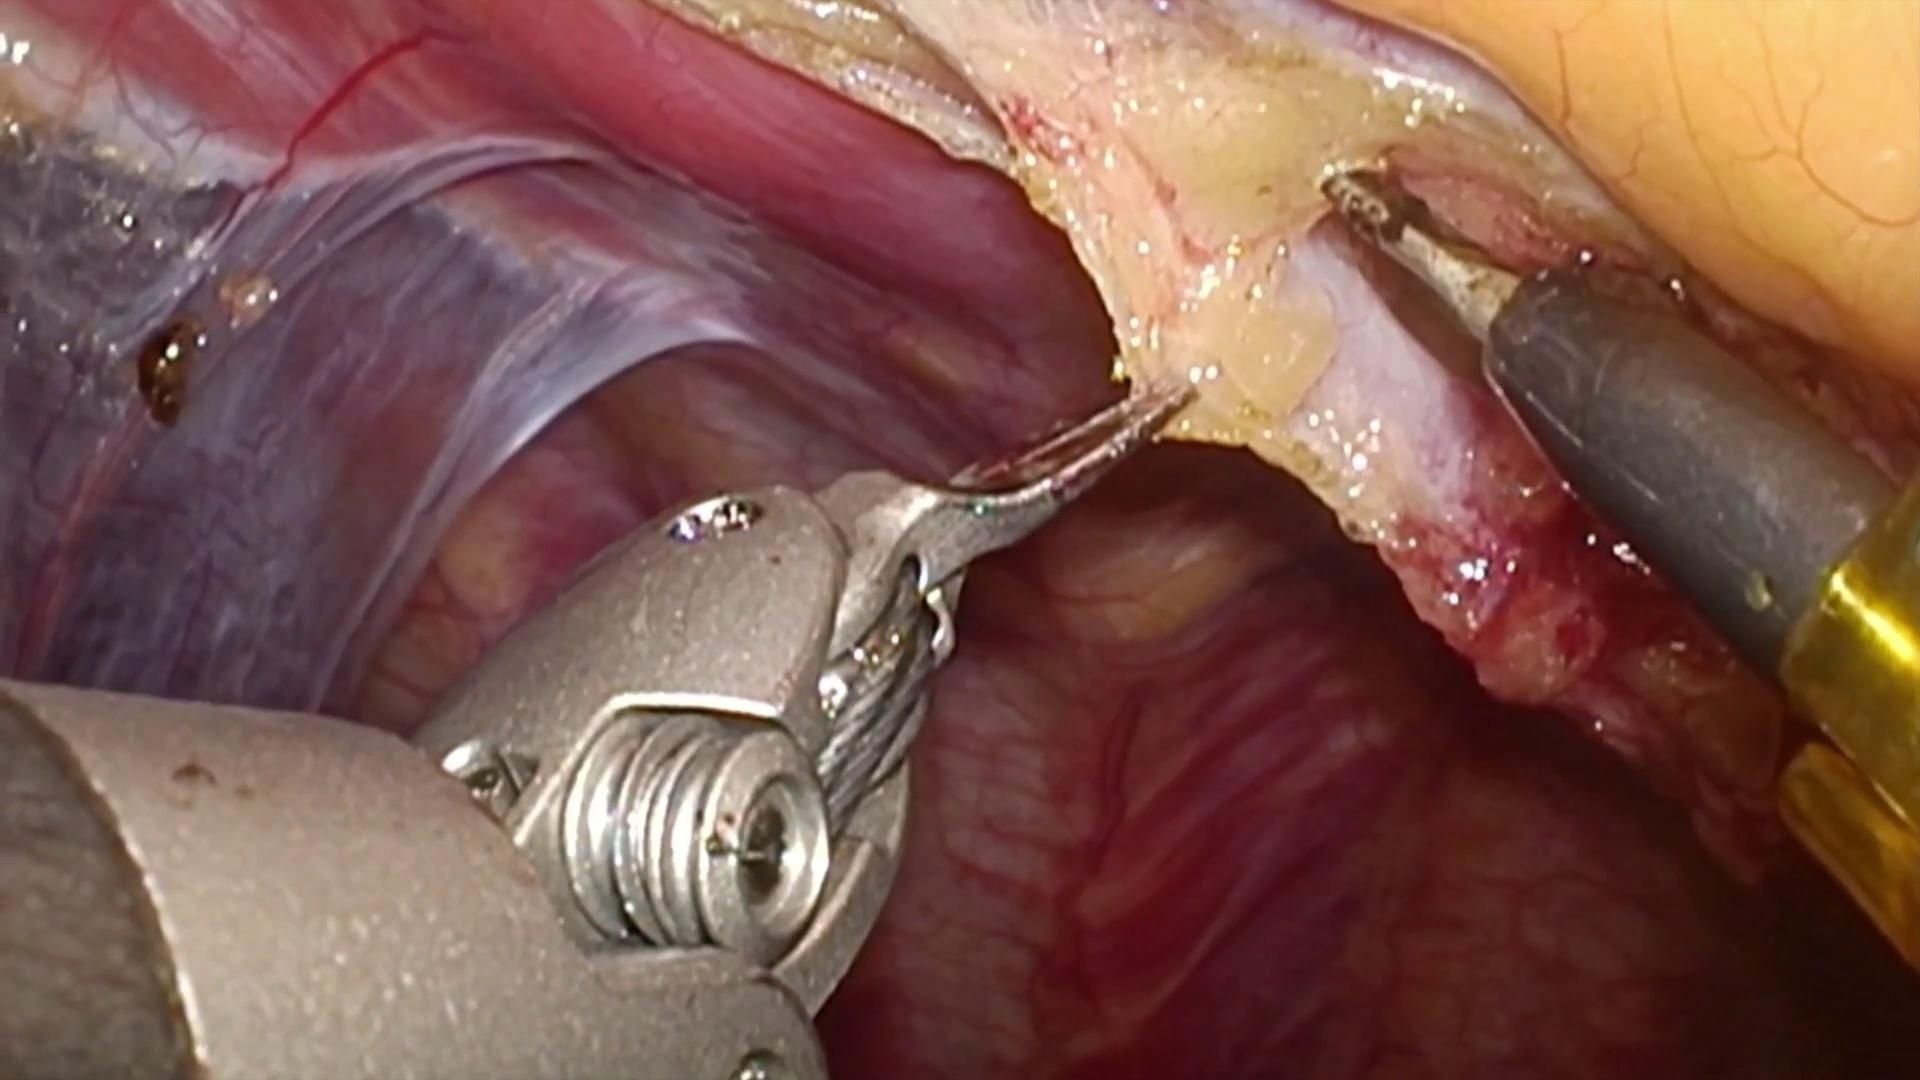Cautery_Spatula: (1320, 169, 1920, 686)
Debakey: (833, 344, 1203, 605)
